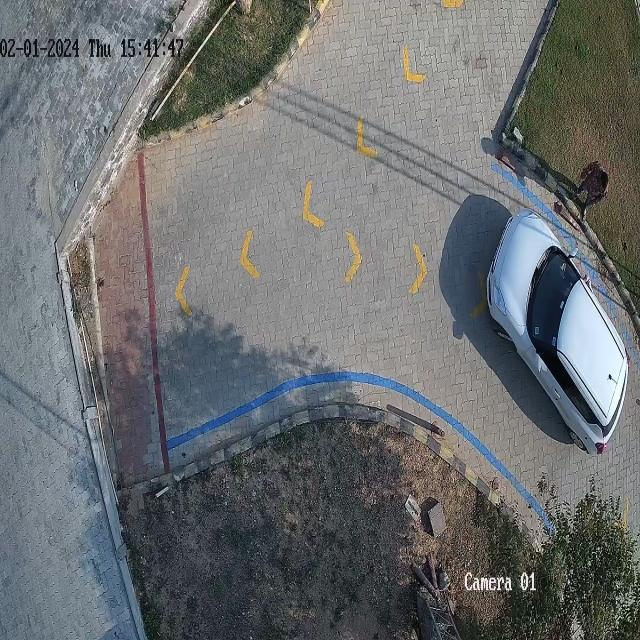car: (484, 208, 630, 454)
